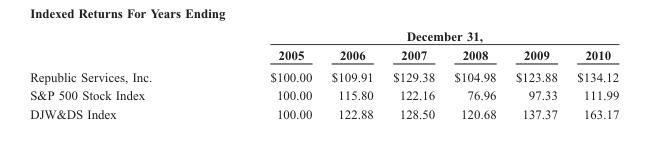table: (29, 28, 618, 120)
table column: (29, 28, 210, 120), (210, 28, 321, 120), (443, 28, 505, 120), (321, 28, 382, 120), (382, 28, 443, 120), (505, 28, 566, 120), (566, 28, 618, 120)
table column header: (29, 28, 618, 66)
table row: (29, 45, 618, 66), (29, 66, 618, 86), (29, 86, 618, 104), (29, 28, 618, 45), (29, 104, 618, 120)
table spanning cell: (210, 28, 618, 45)
